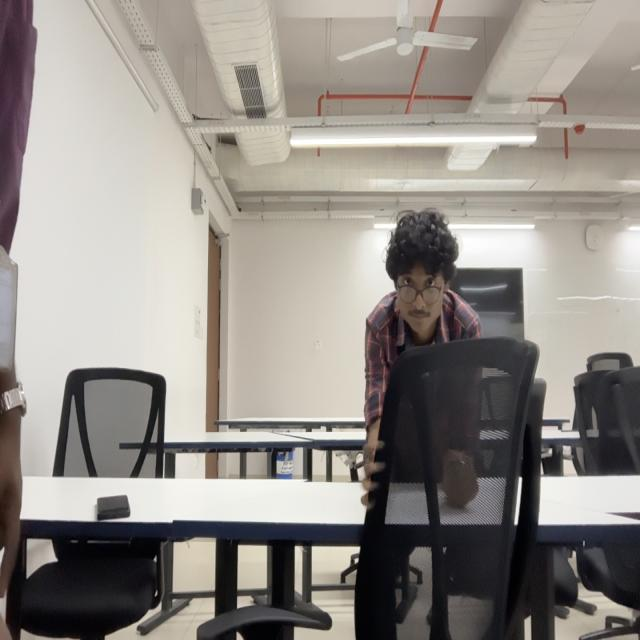darshan: (381, 192, 456, 334)
